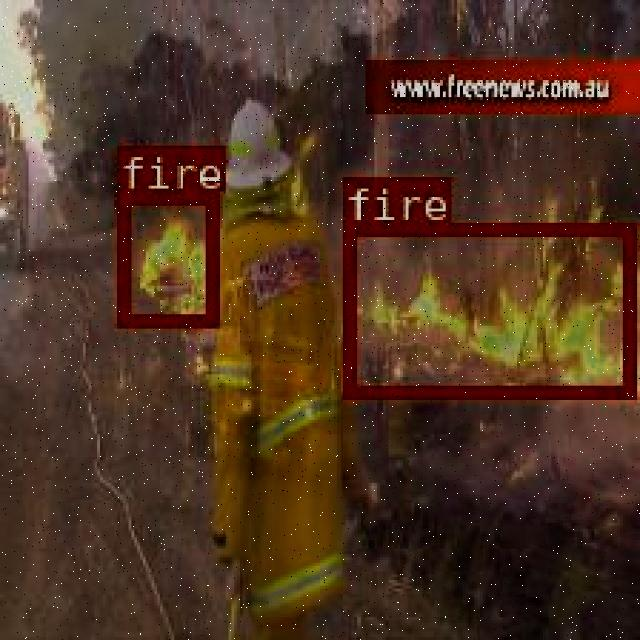fire: (342, 222, 634, 395), (116, 190, 217, 324)
